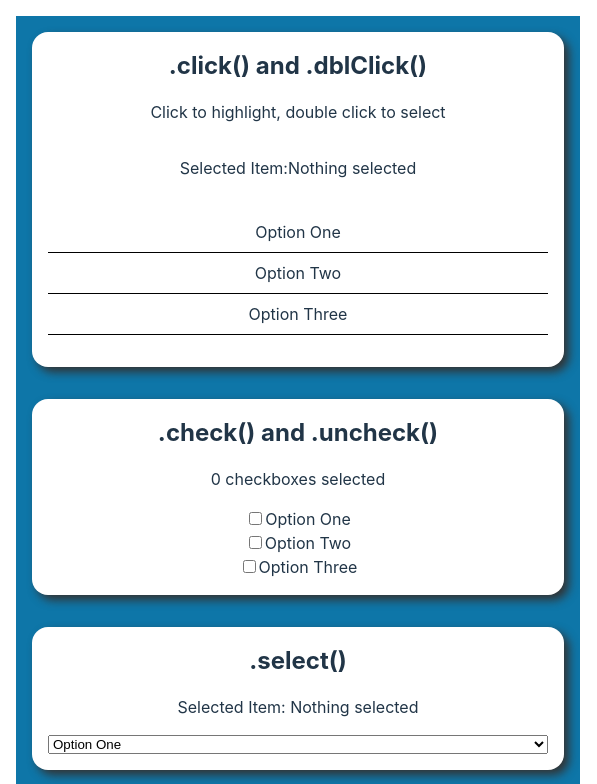
Test: basic page interactions › should display the cuttently selected dropdown option
This screenshot has width=597, height=784.
Select "Option Two" in the dropdown with test id "box-3-dropdown": (298, 745) [48,735,548,754]
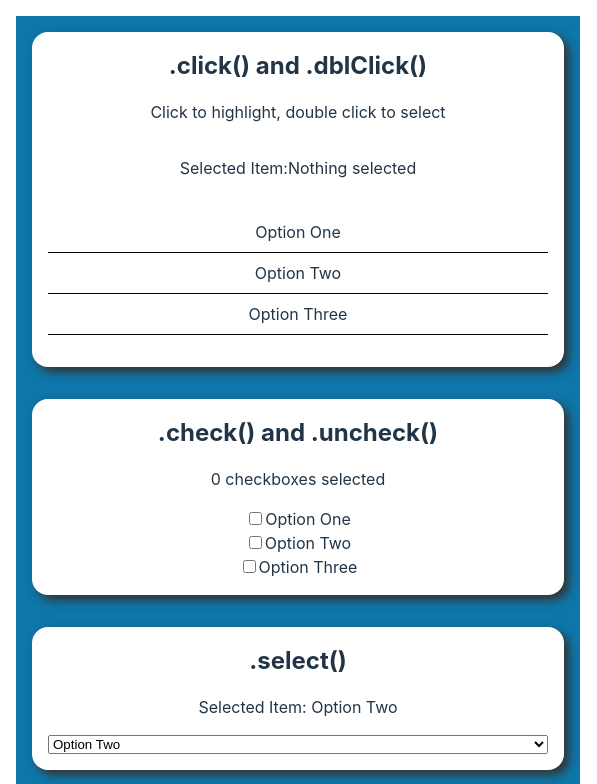
Result: the text with test id "box-3-selected-name" reads "Option Two" at [311,697,397,717]
